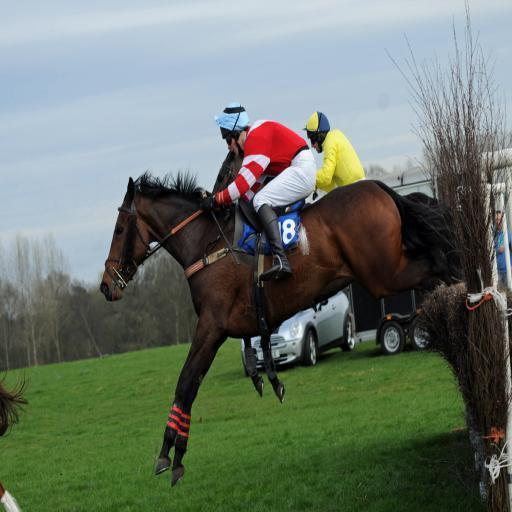horse: (99, 171, 465, 494), (211, 150, 441, 408)
